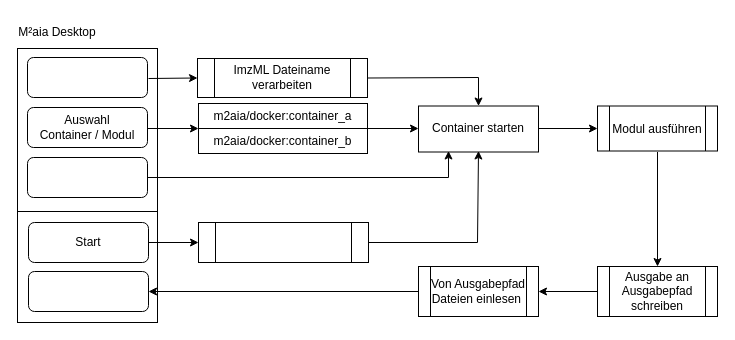
The diagram is 735 pixels wide and 340 high, and some of its shapes have lost their labels. Each missing label, with the box of its shape:
Ausgabe in M²aia: (28, 270, 148, 312)
Ausgabepfad generieren: (198, 222, 368, 262)
Auswahl ImzML Dateien: (26, 56, 148, 98)
Kommandozeilen-parameter: (26, 156, 148, 198)
